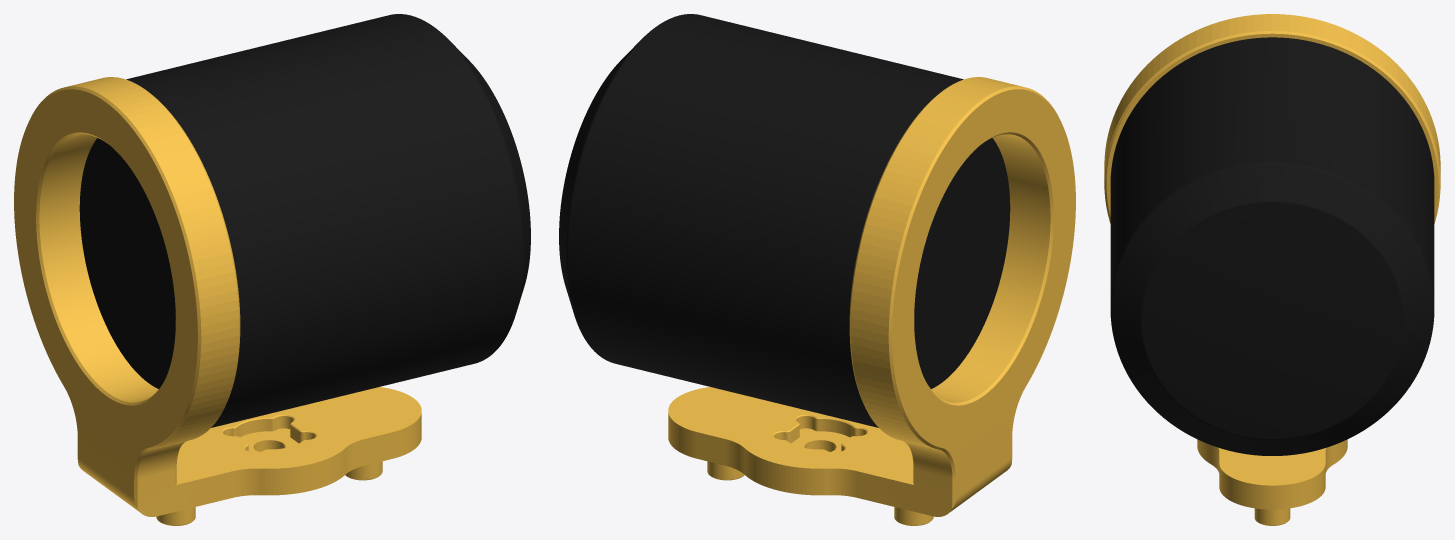
File: arml6.dae
3 renders of one model, left to right at view 1: azimuth 30°, elevation 25°; view 2: azimuth 150°, elevation 25°; view 3: azimuth 270°, elevation 25°, orthographic. The views are drawn at different scales.
Visible parts, largest first — view 1: arml6; view 2: arml6; view 3: arml6.
Boxes of the visible parts, left/top/right/bottom form: arml6: left=14, top=14, right=530, bottom=525; arml6: left=559, top=14, right=1075, bottom=525; arml6: left=1104, top=14, right=1440, bottom=525.
Size of the model in its own units: 0.0843 by 0.076 by 0.0979.
2 materials, 1 textured.
